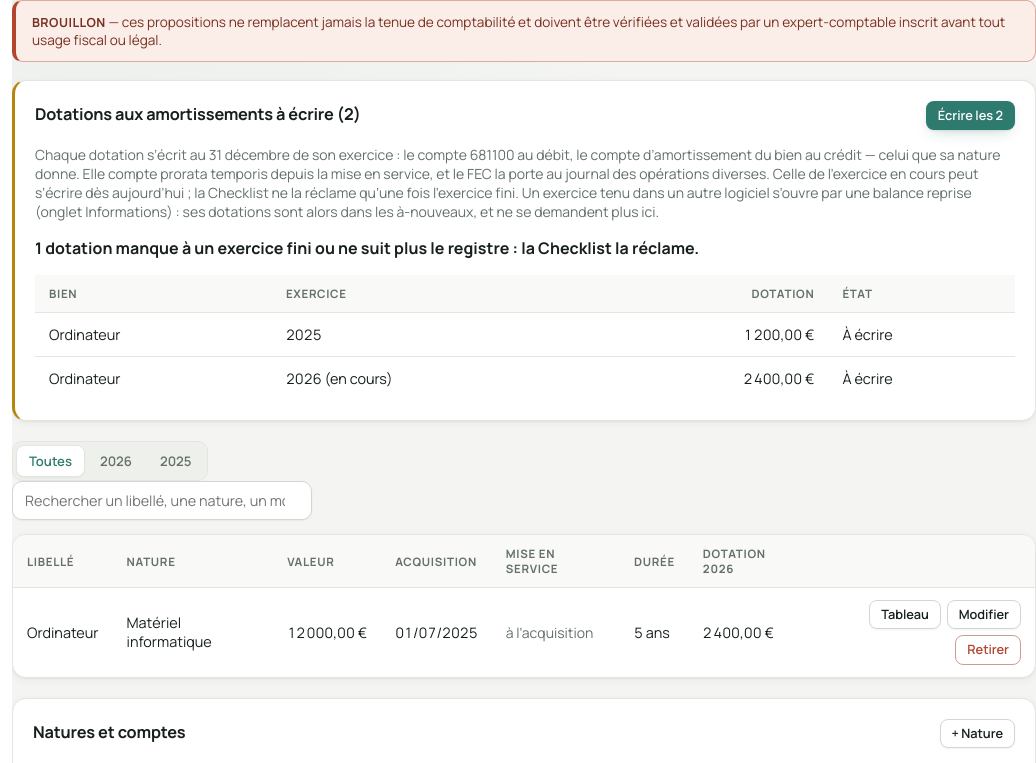
Test: ImmobilisationsTab — la dotation du registre › compte prorata temporis depuis l’acquisition : 1 200 € en 2025 pour un bien acquis le 1er juillet
Expected: the table named "Registre des immobilisations" is shown, [13,535,1035,677]
Expected: the column heading "Dotation 2026" is shown, [689,535,809,588]
L'exercice d'acquisition : six mois de dotation, plus l'annuité pleine qu'affichait la colonne d'avant.
Click the tab "2025" at (176, 461), box [147,445,204,477]
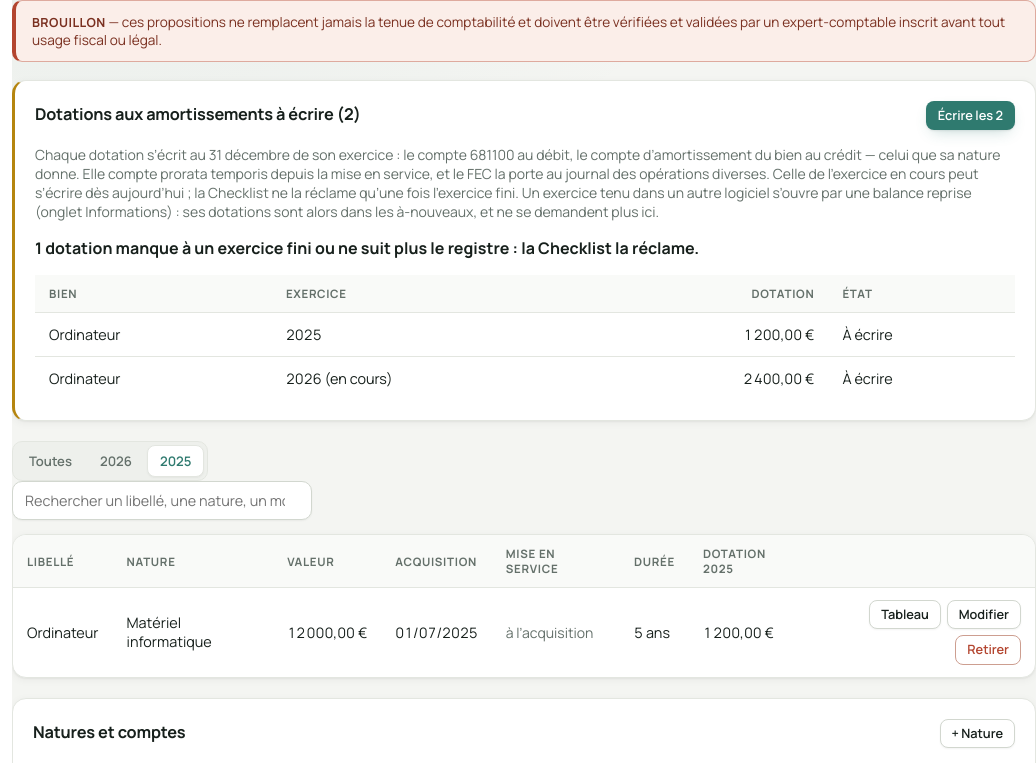
Expected: the text "à l’acquisition" is shown, [506,623,593,642]
Result: the column heading "Dotation 2025" is shown at [689,535,809,588]
